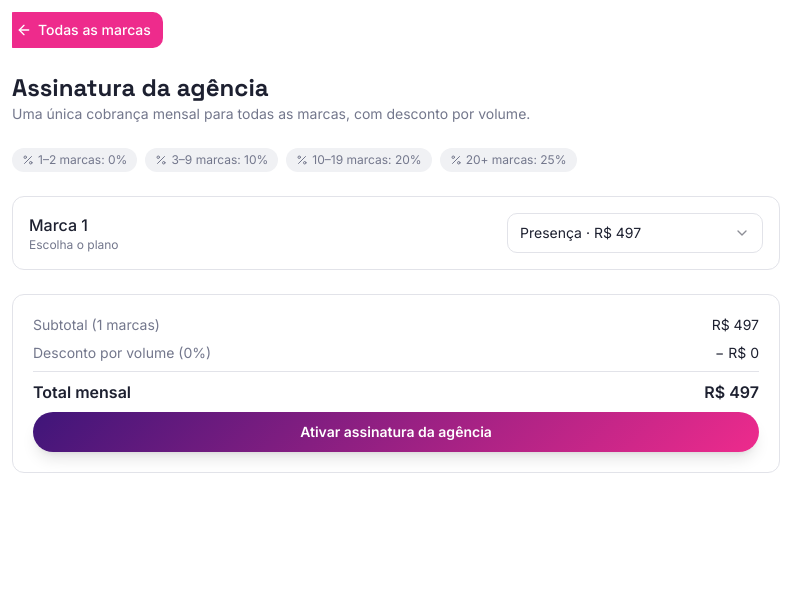
Test: aviso fixo de multa pendente (sem toast) › AgencyBillingPage: aviso logo acima do botão de ativar
This screenshot has width=797, height=603.
Click the button "Ativar assinatura da agência".
click(396, 432)  # box [33,412,759,452]
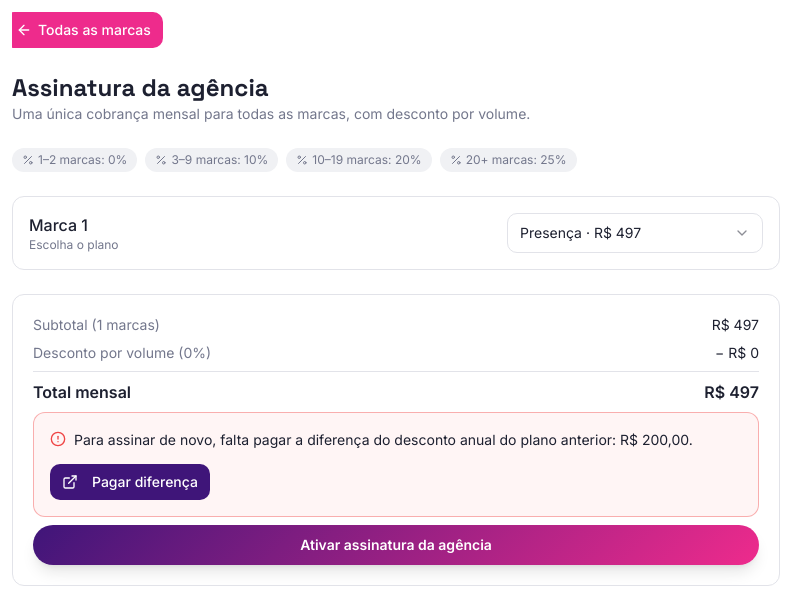
Check: the message with test id "penalty-blocked-notice" shows "falta pagar a diferença do desconto anual do plano anterior: R$ 200,00", box [74,431,693,448]
Check: the button "Pagar diferença" is shown, box [50,464,210,500]
